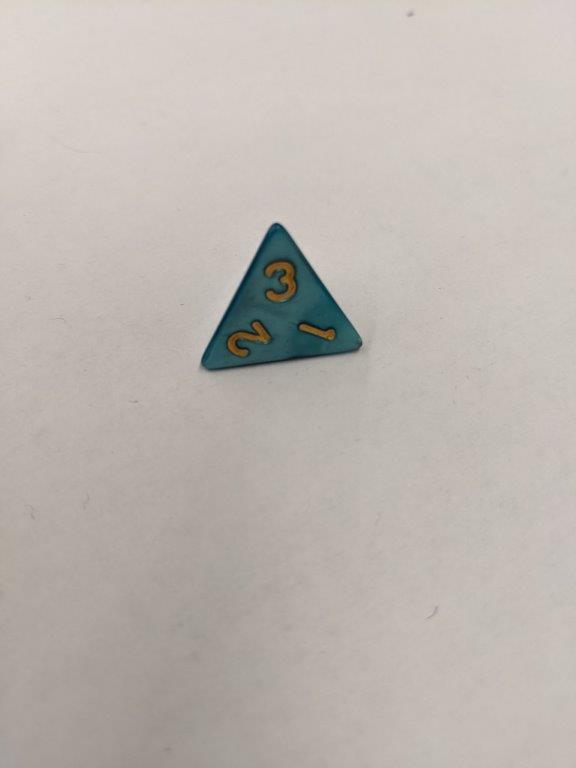d4-3: (197, 219, 368, 374)
